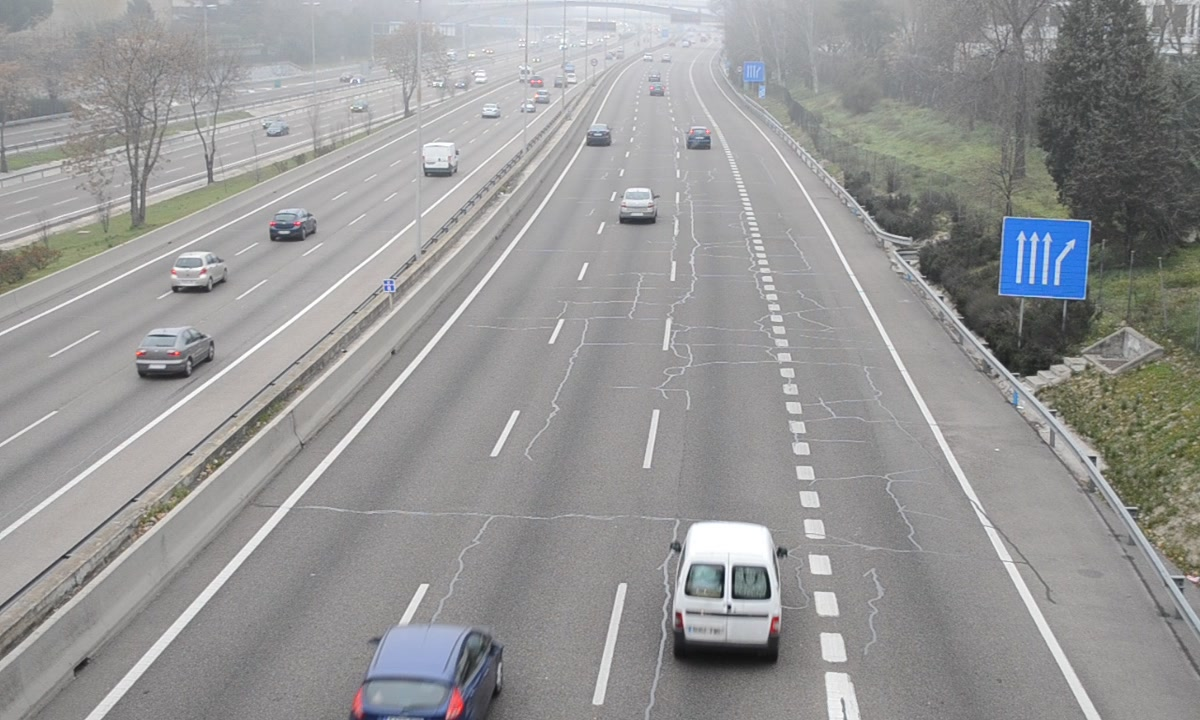car: (353, 627, 501, 720), (619, 187, 656, 224), (586, 123, 612, 149), (685, 126, 710, 149)
van: (671, 523, 781, 662)
